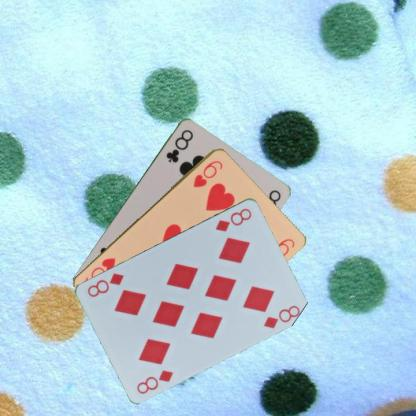6h: (190, 157, 224, 190)
8c: (163, 126, 195, 164)
8d: (213, 205, 254, 233), (134, 367, 175, 395)
